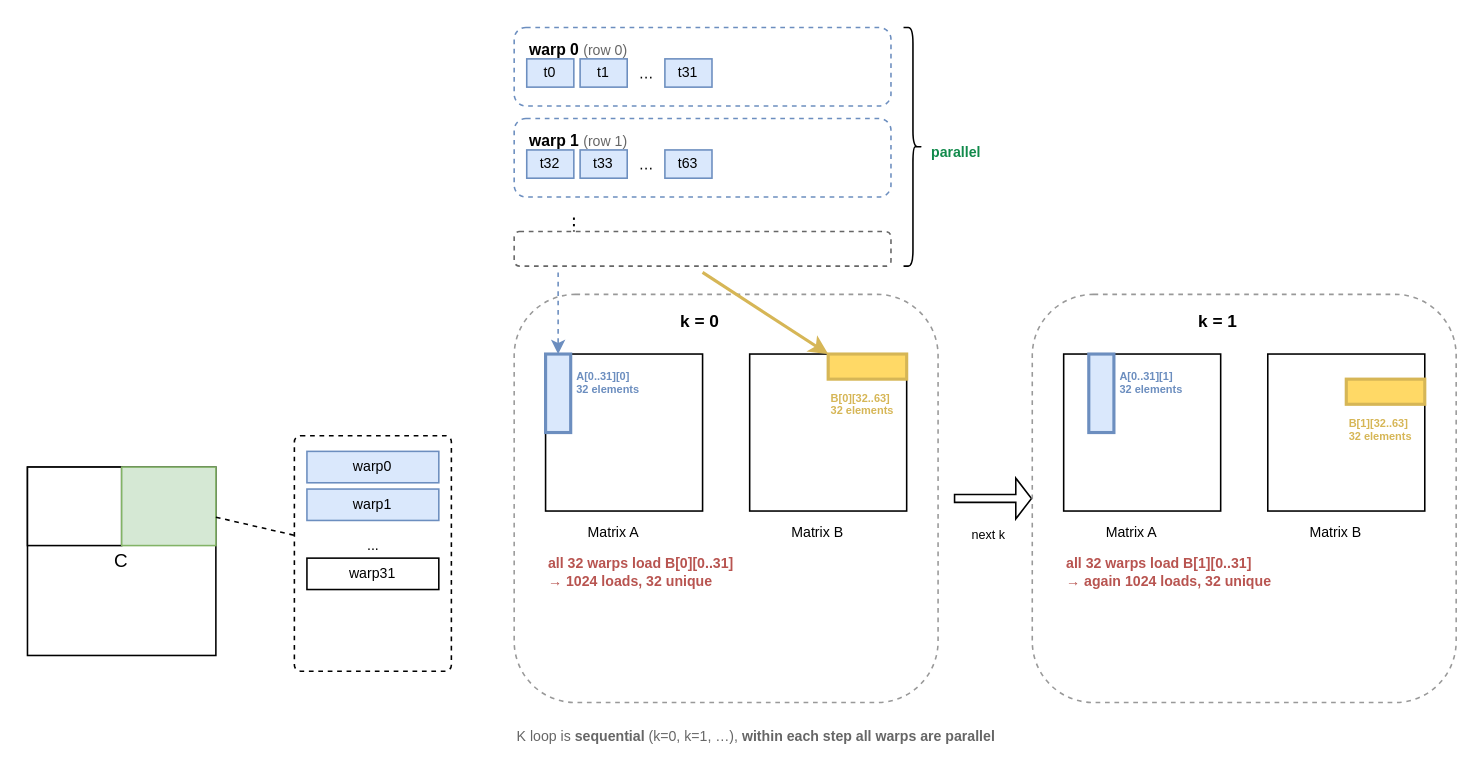
Some shapes in this 1484 by 774 pixel diagram are drawn without their labels. The box of each missing label's shape, as (x1, y1, x2, y2) in pixels:
block (0,0): (26, 466, 122, 546)
block (0,1): (120, 466, 216, 546)
warp 31 (row 31) t992..t1023: (513, 230, 891, 266)
